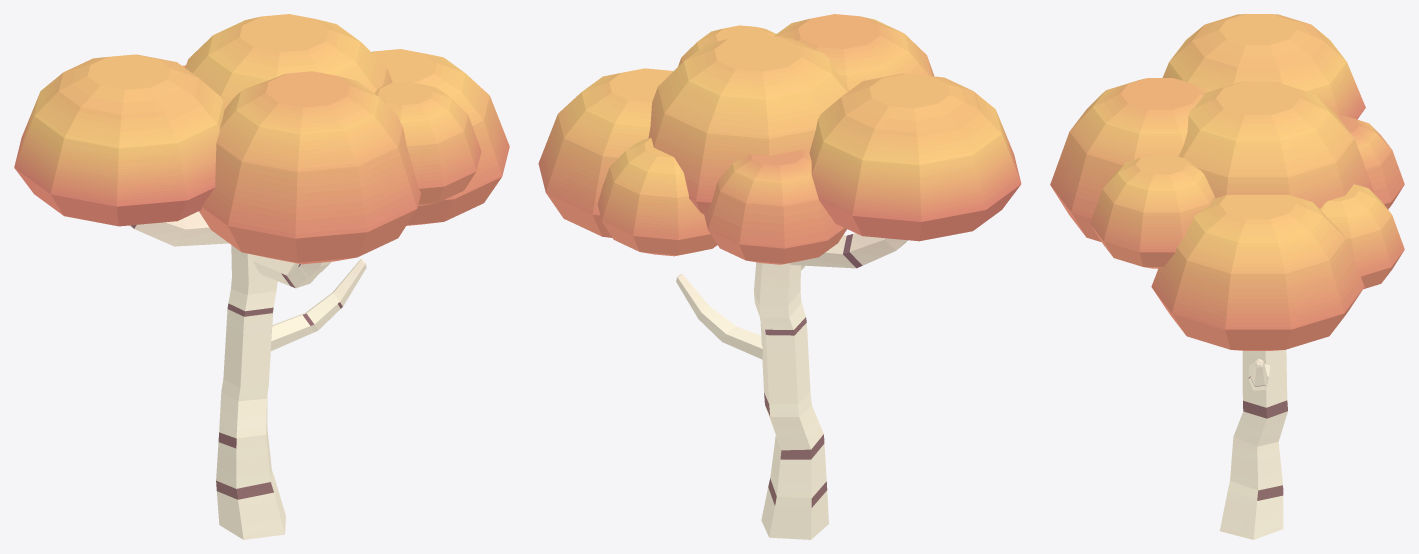
The model's file is birch_y.glb.
3 views of the same model, side by side, from view 1: azimuth 30°, elevation 25°; view 2: azimuth 150°, elevation 25°; view 3: azimuth 270°, elevation 25° (orthographic). The views are drawn at different scales.
Visible parts, largest first — view 1: Birch; view 2: Birch; view 3: Birch.
Part boxes in pixels (x1,y1,x2,y2): Birch: (14,14,509,539); Birch: (538,14,1021,539); Birch: (1050,14,1404,539).
Size of the model in its own units: 4.53 by 4.53 by 3.3.
Materials: 1 (1 with a texture image).
